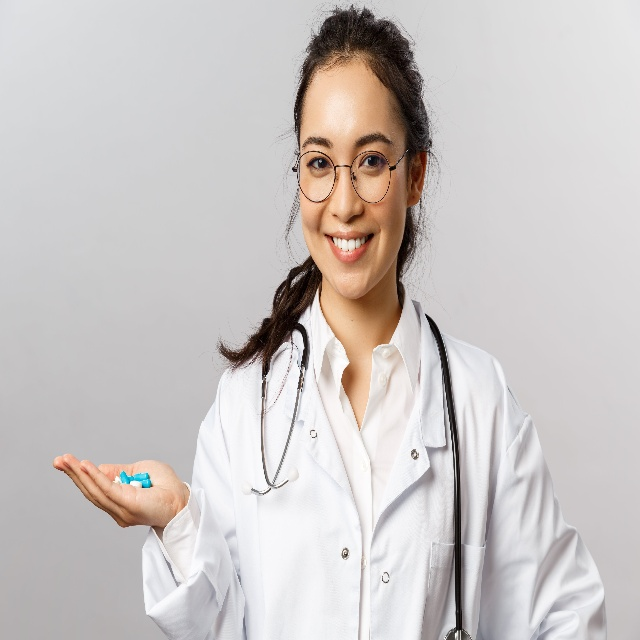Gafas: (292, 144, 411, 204)
Sin_guantes: (51, 444, 185, 535)
